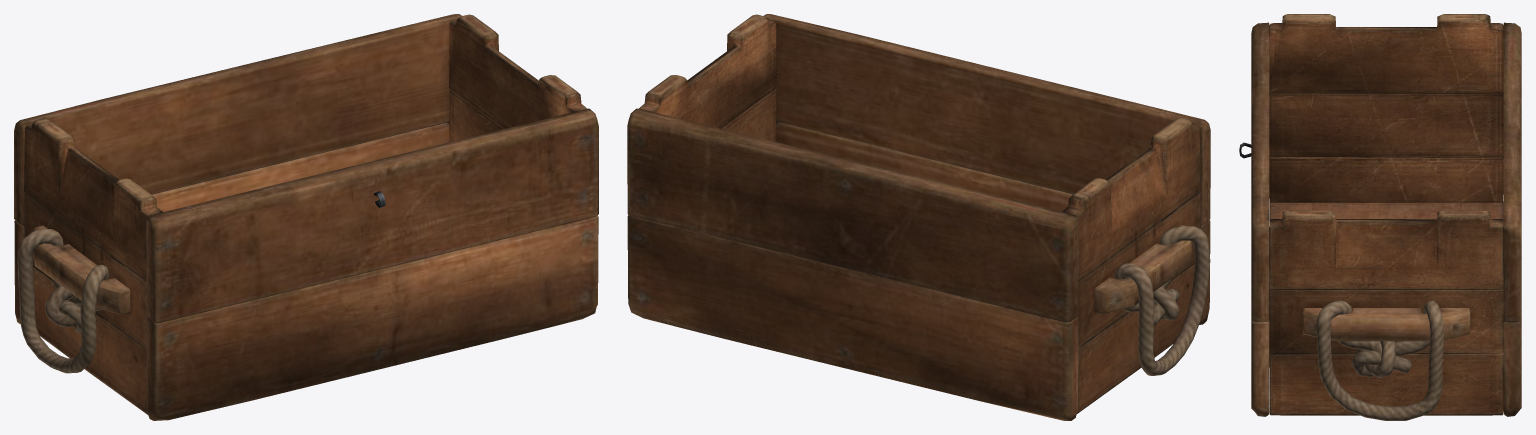
File: wooden_crate_01.gltf
The picture shows the model from 3 angles, left to right: view 1: azimuth 30°, elevation 25°; view 2: azimuth 150°, elevation 25°; view 3: azimuth 270°, elevation 25°; orthographic projection. The views are drawn at different scales.
Parts seen in each view (by area): view 1: wooden_crate_01__x; view 2: wooden_crate_01__x; view 3: wooden_crate_01__x.
Boxes of the visible parts, x1=… form: wooden_crate_01__x: x1=14, y1=14, x2=598, y2=420; wooden_crate_01__x: x1=627, y1=14, x2=1210, y2=420; wooden_crate_01__x: x1=1239, y1=14, x2=1521, y2=420.
Bounding box in the file's own units: 0.8246 × 0.3214 × 0.4086.
Materials: 1 (1 with a texture image).
